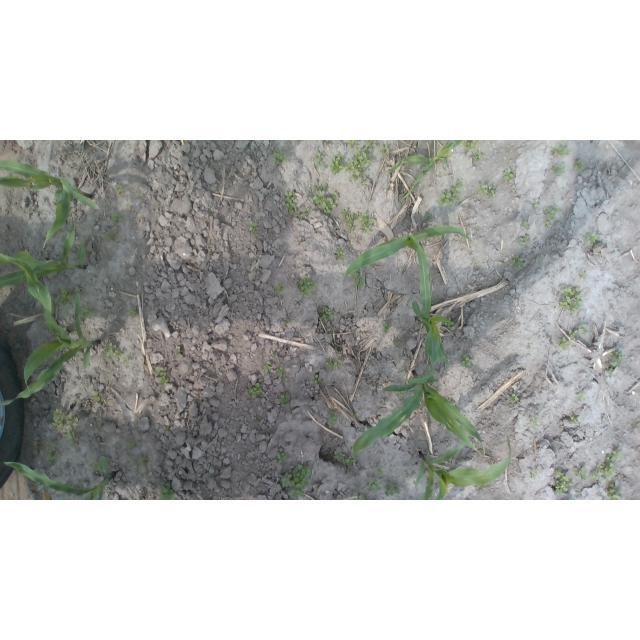Maize: (1, 253, 102, 407), (352, 370, 486, 458), (0, 159, 100, 249), (1, 217, 88, 292), (344, 225, 470, 276), (414, 438, 510, 500), (411, 240, 454, 372), (3, 456, 115, 501), (389, 141, 463, 202)
Weeds: (282, 460, 313, 500), (591, 448, 622, 482), (344, 148, 372, 185), (312, 183, 340, 215), (559, 285, 584, 315), (439, 181, 463, 208), (52, 408, 78, 432), (53, 284, 76, 306), (44, 438, 62, 466), (297, 275, 318, 297), (341, 208, 359, 233), (333, 450, 356, 468), (606, 351, 624, 373), (553, 471, 571, 493), (283, 189, 298, 215), (360, 212, 377, 234), (105, 342, 124, 361), (329, 154, 344, 175), (544, 204, 561, 221), (476, 184, 497, 197), (158, 484, 174, 500), (607, 484, 622, 501), (156, 367, 169, 386), (273, 148, 288, 164), (501, 168, 516, 184), (248, 383, 262, 400), (584, 231, 600, 245), (324, 358, 341, 371), (353, 268, 364, 288), (471, 150, 486, 164), (463, 140, 478, 154), (550, 145, 569, 156), (384, 484, 400, 497), (327, 412, 339, 429), (135, 455, 149, 469), (321, 308, 335, 322), (551, 163, 566, 176), (573, 468, 587, 481), (367, 480, 381, 493), (315, 151, 325, 169), (509, 256, 524, 268), (80, 308, 96, 319), (460, 355, 473, 368), (276, 452, 288, 465), (559, 337, 570, 351), (296, 208, 310, 219), (276, 363, 287, 377), (380, 321, 392, 333), (65, 432, 77, 444), (32, 440, 41, 456), (518, 235, 531, 246), (104, 229, 118, 239), (443, 317, 454, 329), (573, 161, 585, 172), (111, 213, 123, 224), (279, 392, 290, 404), (248, 220, 256, 236), (336, 246, 345, 260), (578, 324, 590, 333), (506, 394, 518, 403), (92, 390, 101, 402), (92, 459, 101, 471), (367, 140, 380, 148), (127, 307, 137, 317), (531, 419, 542, 428), (264, 360, 272, 372), (381, 144, 391, 153), (520, 220, 530, 229), (569, 330, 578, 340), (113, 184, 123, 193), (424, 212, 432, 223), (348, 141, 360, 148), (396, 391, 405, 400), (571, 416, 580, 425), (312, 374, 320, 384), (376, 467, 385, 475), (127, 439, 133, 451), (544, 220, 552, 228), (356, 492, 364, 500), (579, 392, 586, 401), (277, 284, 284, 293), (536, 255, 545, 262), (400, 367, 409, 373), (579, 273, 586, 280), (396, 341, 401, 349), (532, 472, 537, 479), (481, 487, 488, 492), (177, 350, 182, 357), (532, 201, 540, 205), (284, 319, 289, 325), (124, 358, 129, 364), (280, 180, 285, 185), (505, 148, 511, 152), (421, 399, 424, 405)
